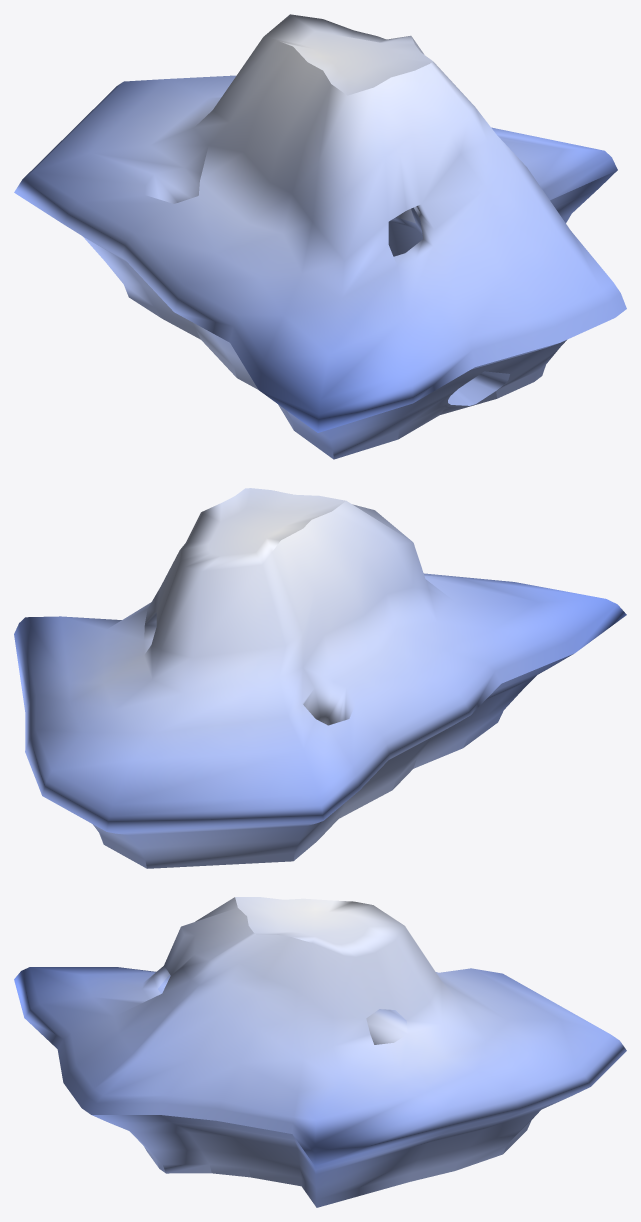
The model's file is Ice Moutain Parkour Moutain 1.fbx.
The picture shows the model from 3 angles, top to bottom: view 1: azimuth 30°, elevation 25°; view 2: azimuth 150°, elevation 25°; view 3: azimuth 270°, elevation 25°; orthographic projection. The views are drawn at different scales.
Parts seen in each view (by area): view 1: Sub_Island; view 2: Sub_Island; view 3: Sub_Island.
Part boxes in pixels (bbox=[...]): Sub_Island: bbox=[14, 14, 626, 459]; Sub_Island: bbox=[14, 488, 626, 868]; Sub_Island: bbox=[14, 897, 626, 1207].
Bounding box in the file's own units: 15.53 × 8.52 × 21.53.
